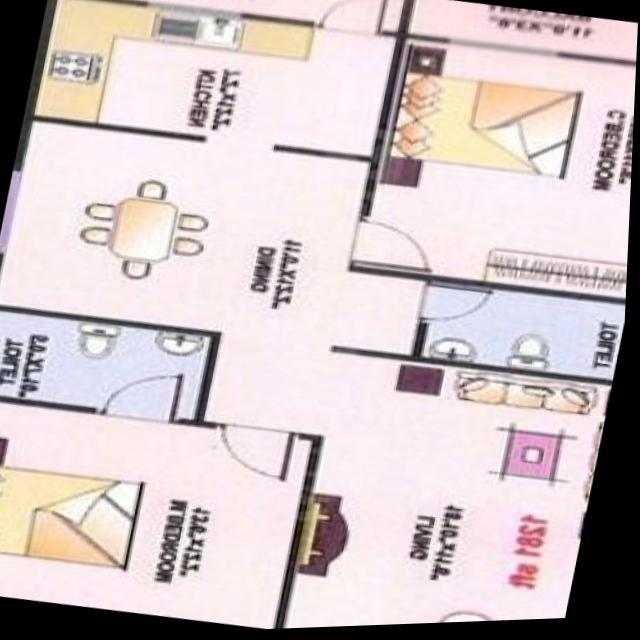Balcony-Sitout: (404, 0, 638, 71)
Bedroom: (352, 36, 637, 309)
Bedroom with Toilet: (0, 310, 323, 631)
Dining: (65, 171, 216, 297)
Kitchen: (23, 0, 402, 166)
Living: (283, 350, 617, 631)
Toilet: (0, 306, 230, 433), (413, 276, 629, 390)
Utility: (84, 0, 412, 41)
